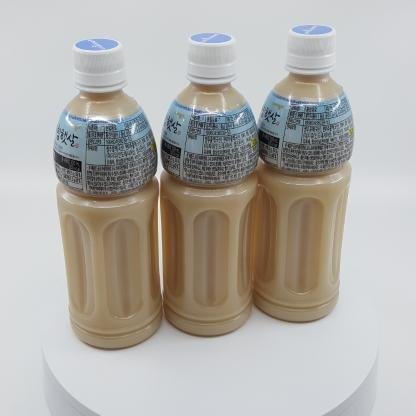------500ML: (53, 38, 162, 349), (252, 24, 355, 322), (160, 32, 259, 336)
